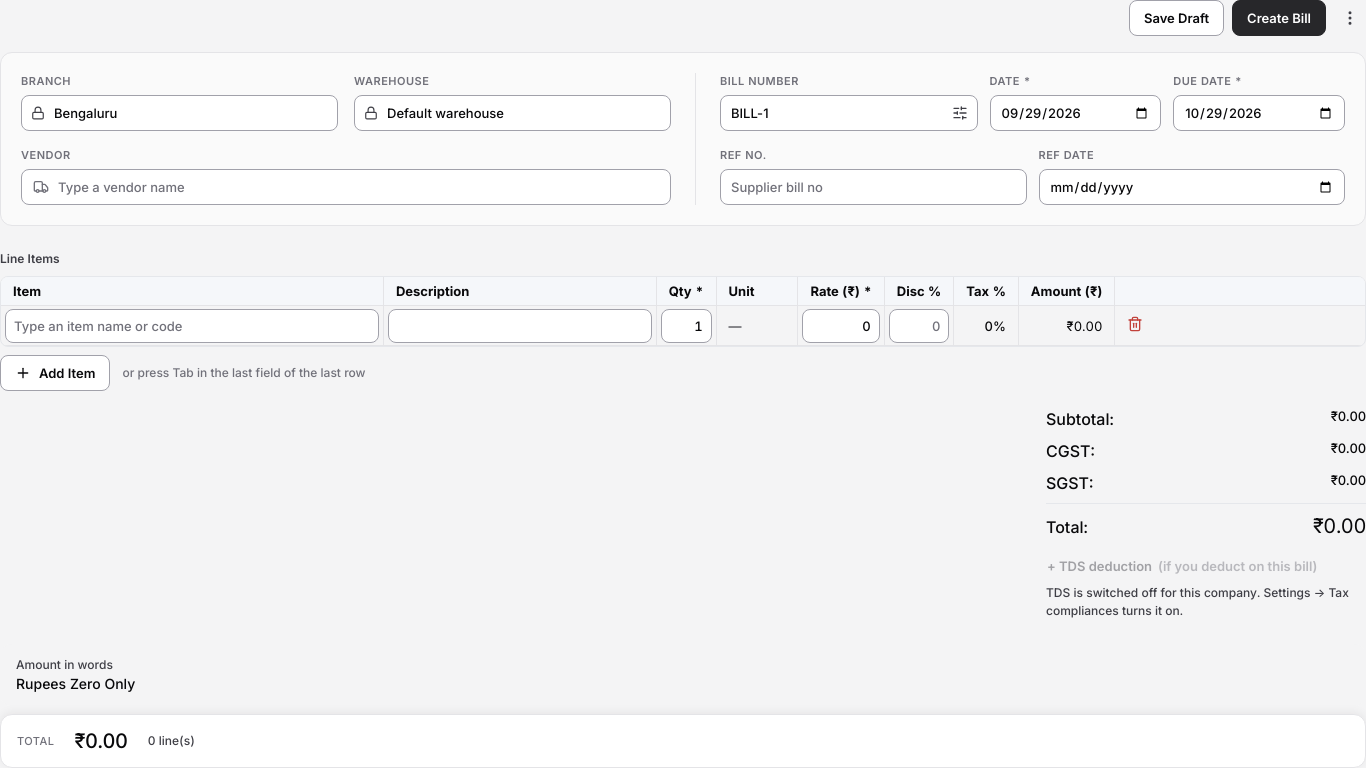
Test: the bill number carries its series › writes the purchase series without touching the invoice one
The width and height of the screenshot is (1366, 768).
Click the button named "Bill numbering settings" at (960, 113), box [946,99,974,127]
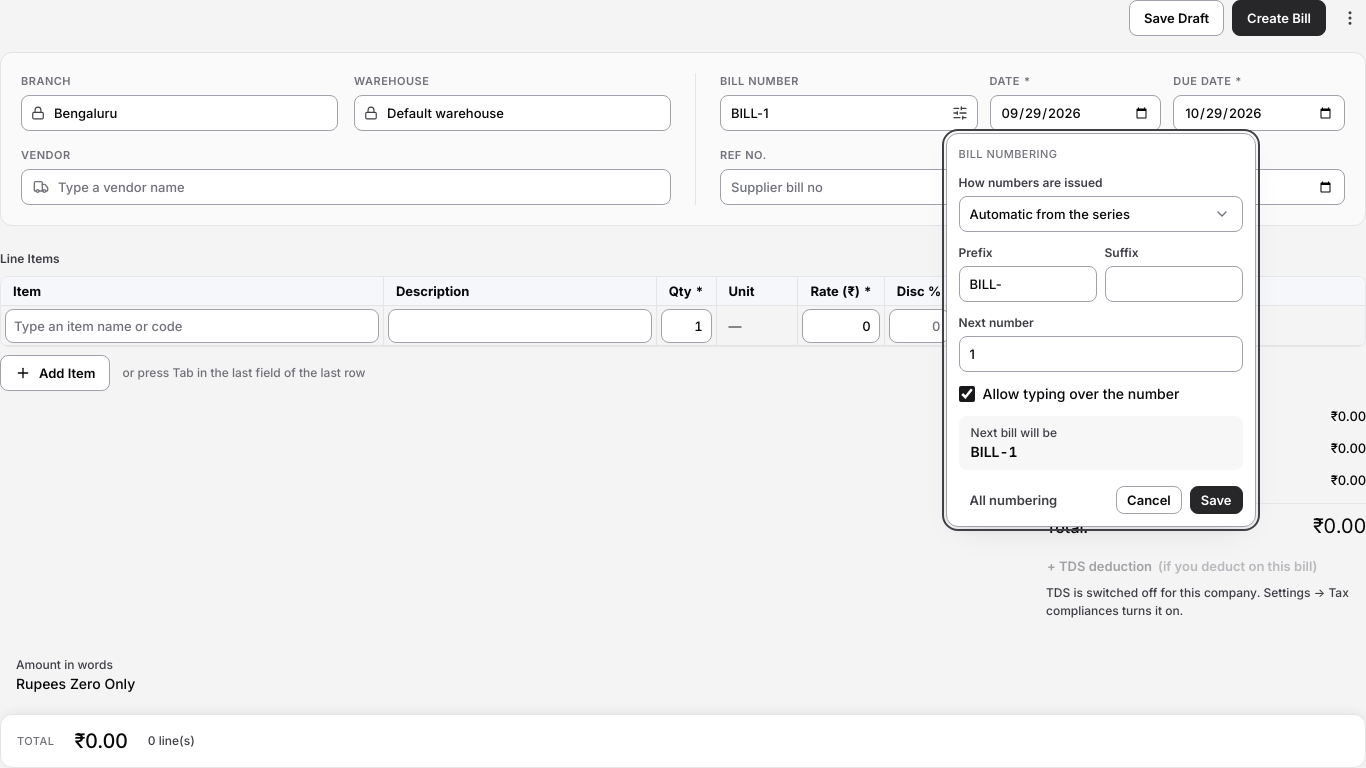
Replace the text in the field labelled "Prefix" with "PB-" at (1028, 284), box [959,266,1097,302]
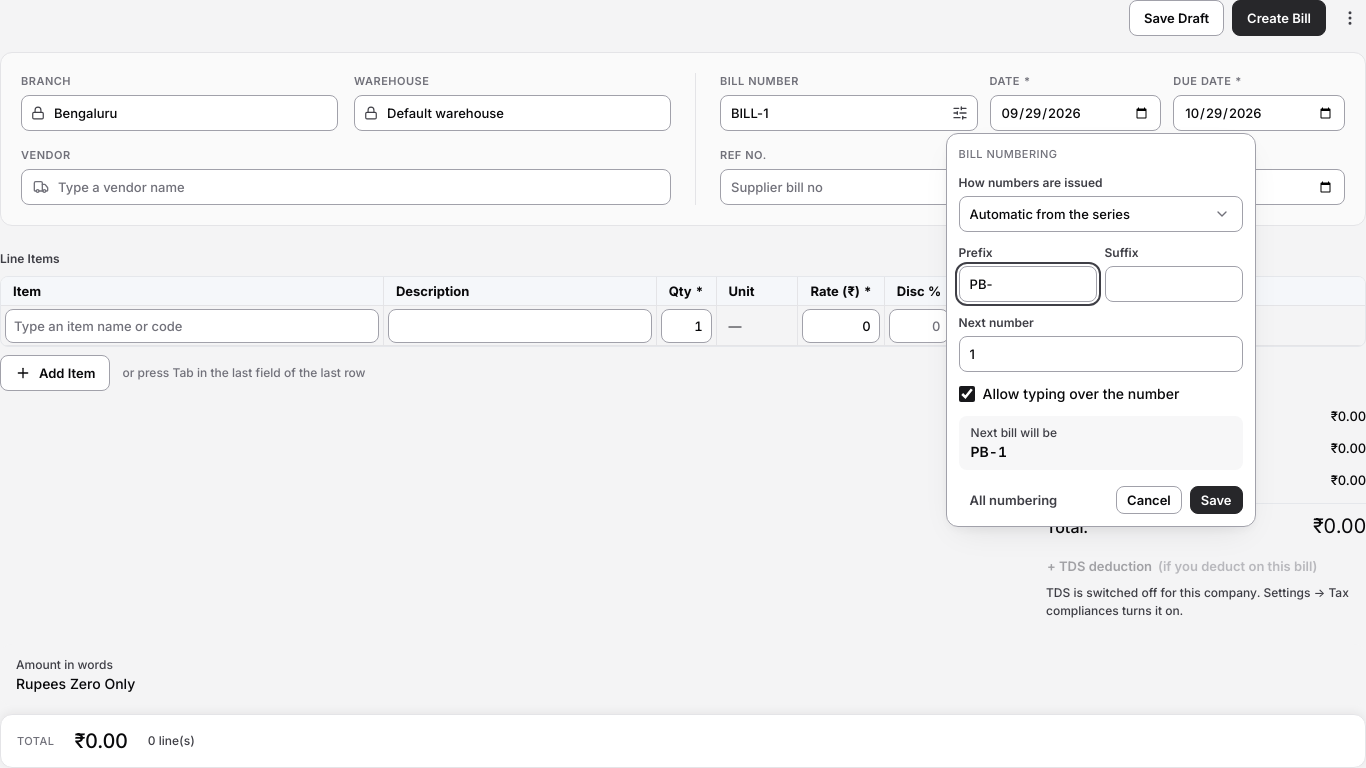
Click the button "Save" at (1216, 500), box [1190,486,1243,514]
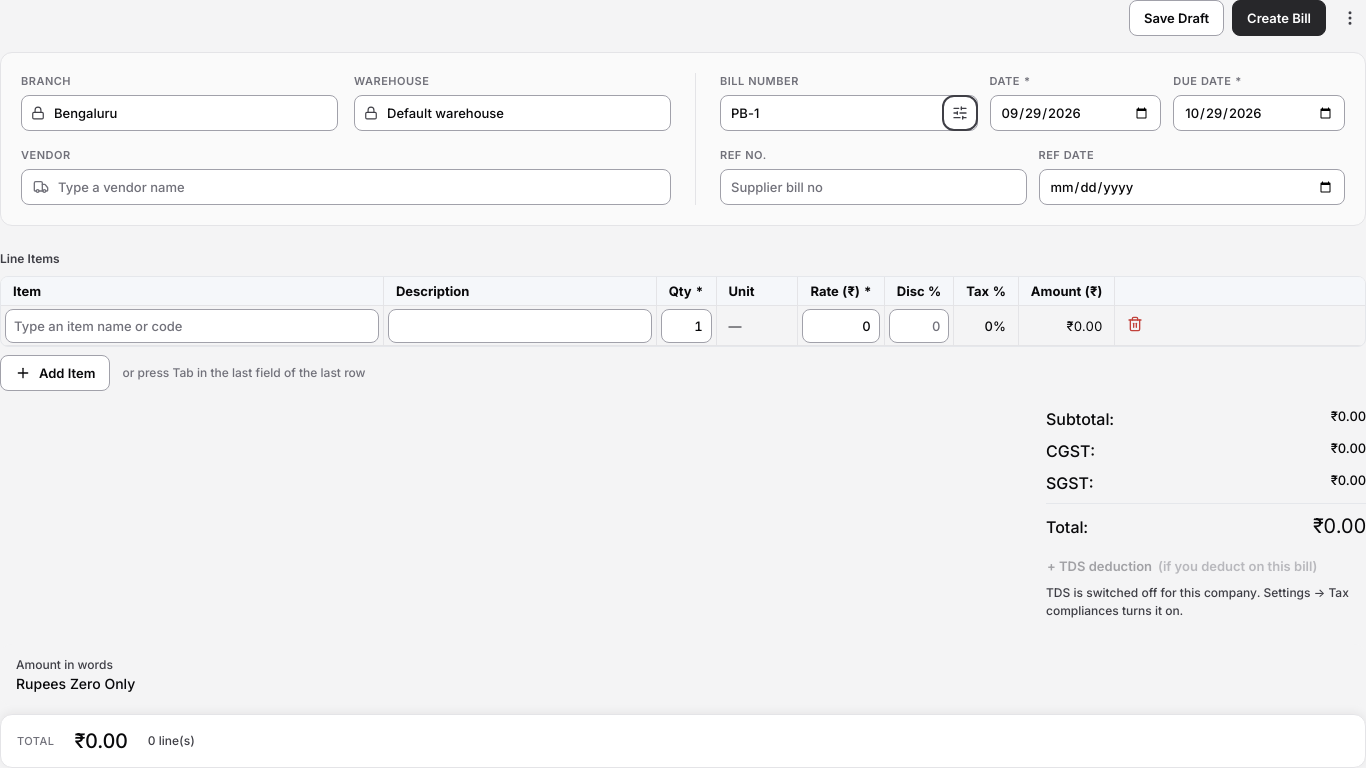
expect the field labelled "Bill Number" holds "PB-1": met, box [720,95,978,131]
